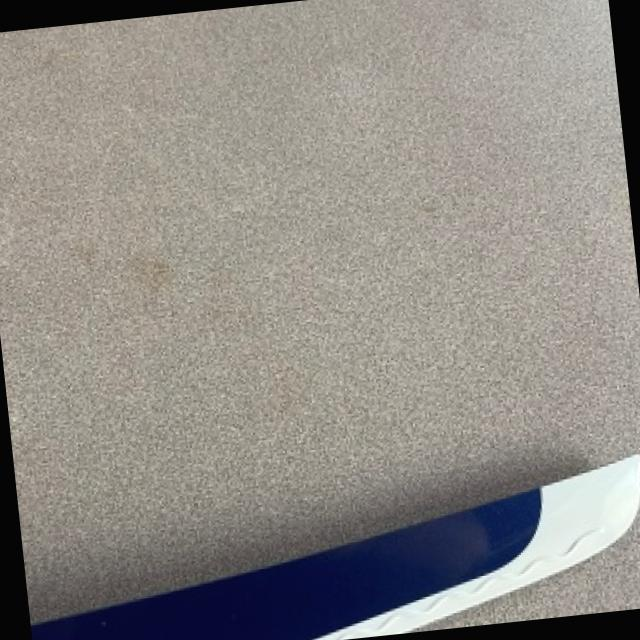healthy: (30, 452, 636, 640)
